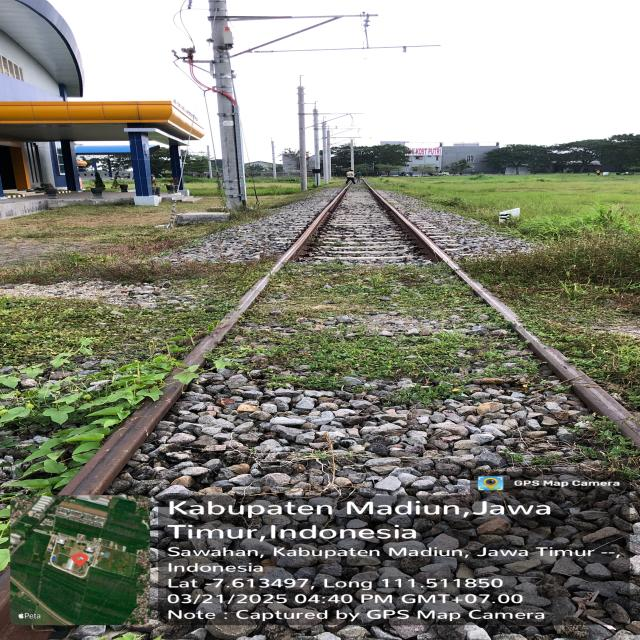rail-detection: (366, 183, 640, 447), (183, 185, 349, 366), (71, 380, 181, 490)
